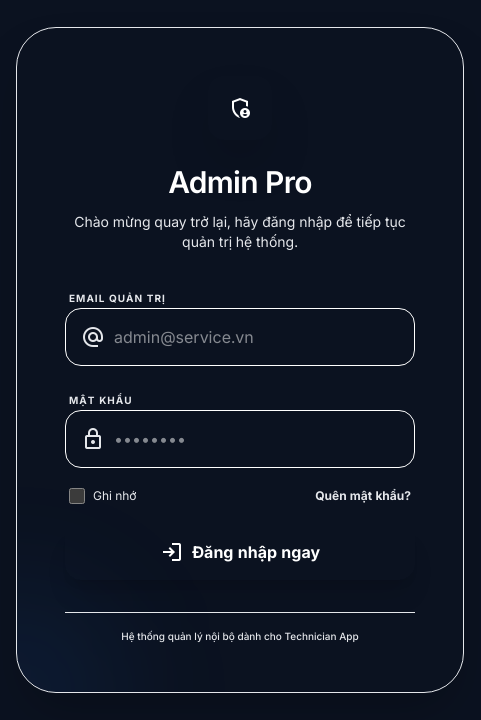
Scenario: Login › should show error on failure
In the field with placeholder "admin@service.vn": [240, 337] box [65,308,415,366], type "wrong@test.com"
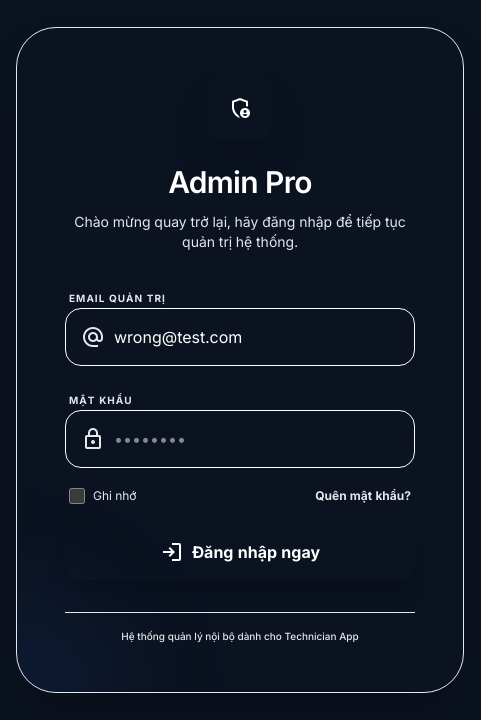
In the password field with placeholder "••••••••": [240, 439] box [65,410,415,468], type "wrongpass"
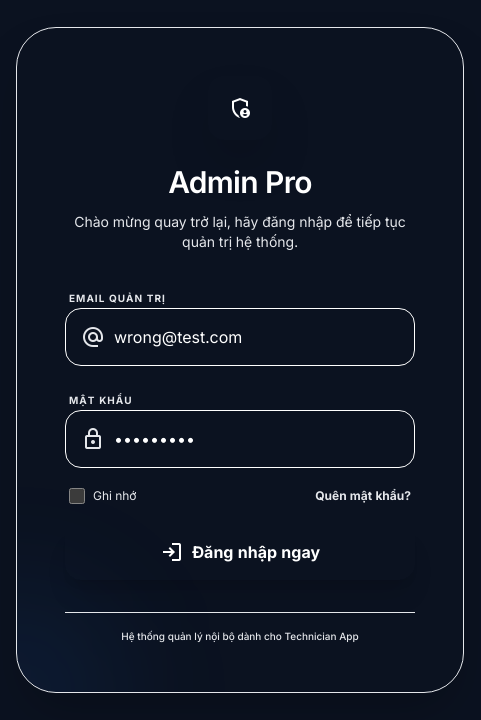
Click the button "Đăng nhập ngay": [240, 552] box [65,524,415,580]
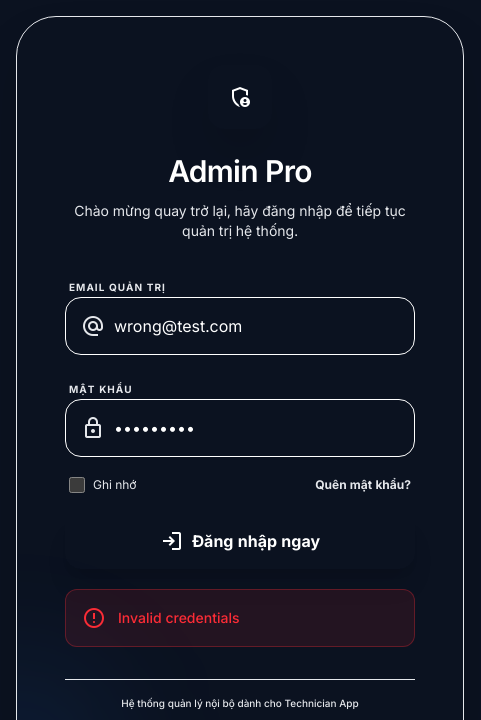
Check: the text "Invalid credentials" is shown, box [118,608,240,628]
